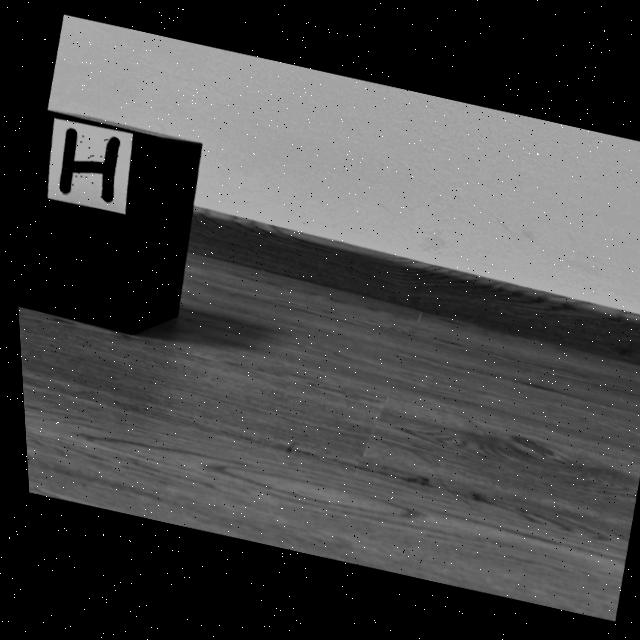H: (56, 129, 117, 203)
